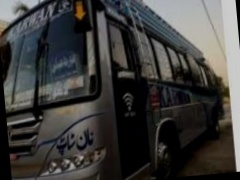bus: (0, 0, 231, 180)
